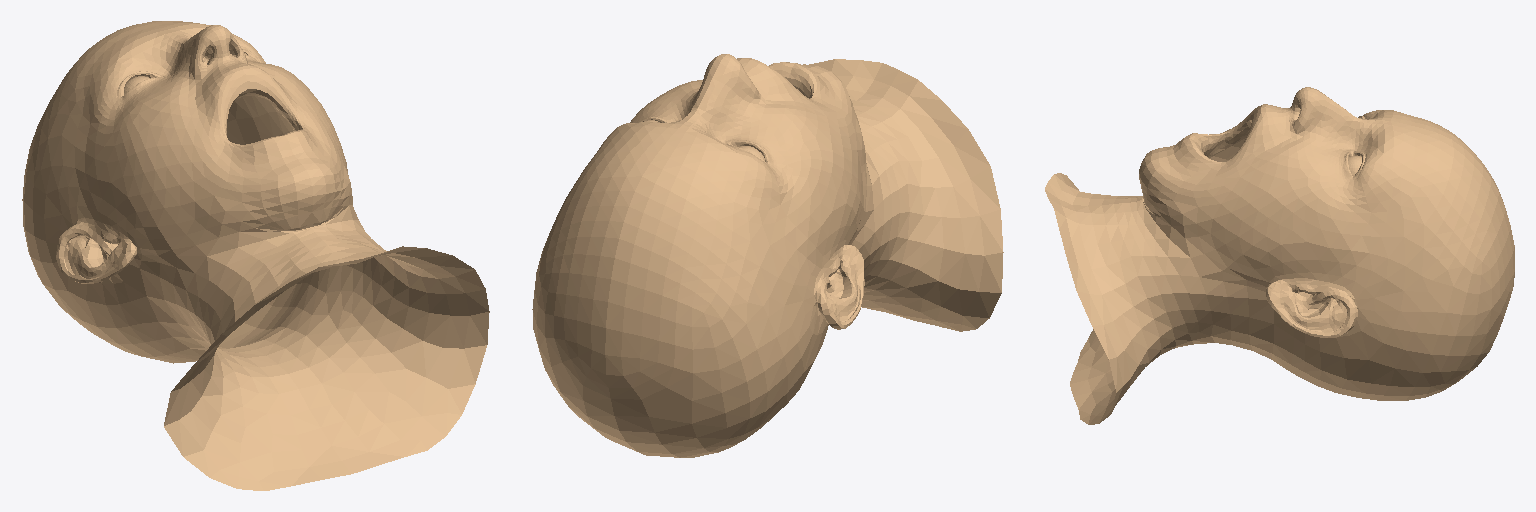
robot.urdf — head_model:
<?xml version="1.0" ?>
<robot name="head_model">
  <link name="headbase">
    <inertial>
      <origin rpy="0 0 0" xyz="0 0 0"/>
      <mass value="1.0"/>
      <inertia ixx="1.821E-05" ixy="-4.1084E-09" ixz="-1.448E-07" iyy="1.062E-05" iyz="-1.5136E-09" izz="1.0557E-05"/>
    </inertial>
    <visual>
      <origin rpy="0 0 0" xyz="0 0 0"/>
      <geometry>
        <mesh filename="mouth_open_neck_origin.obj"/>
      </geometry>
      <material name="">
        <color rgba="0.9 0.76 0.6 1"/>
      </material>
    </visual>
    <!-- <collision>
      <origin rpy="0 0 0" xyz="0 0 0"/>
      <geometry>
        <mesh filename="mouth_open.obj"/>
      </geometry>
    </collision> -->
  </link>
</robot>

--- Facts derived from the render (not from the file) ---
Views: 3 orthographic renders of the robot side by side, from view 1: azimuth 30°, elevation 25°; view 2: azimuth 150°, elevation 25°; view 3: azimuth 270°, elevation 25°.
Robot: head_model — 1 links, 0 joints (none); root link headbase; default pose: every joint at zero.
Visible links, largest first — view 1: headbase; view 2: headbase; view 3: headbase.
Boxes of the visible links, <box> form: headbase: <box>22,21,489,490</box>; headbase: <box>532,54,1003,457</box>; headbase: <box>1045,87,1514,424</box>.
Bounding box of the posed robot: 0.2182 × 0.3195 × 0.2278 m (x, y, z).
1 mesh visuals loaded from 1 distinct referenced files (1 OBJ).